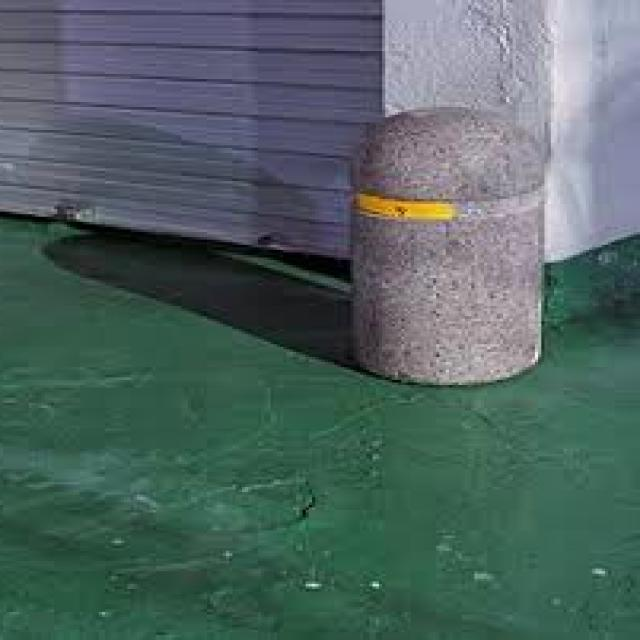bollard: (332, 93, 550, 391)
